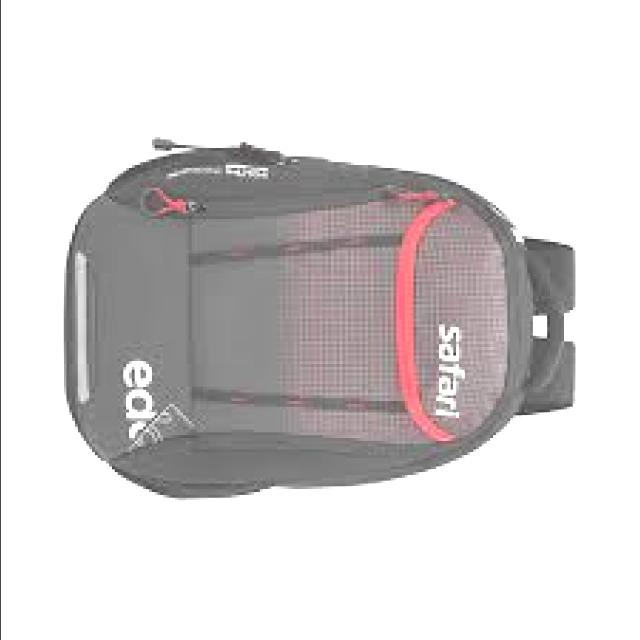backpack: (64, 138, 582, 502)
